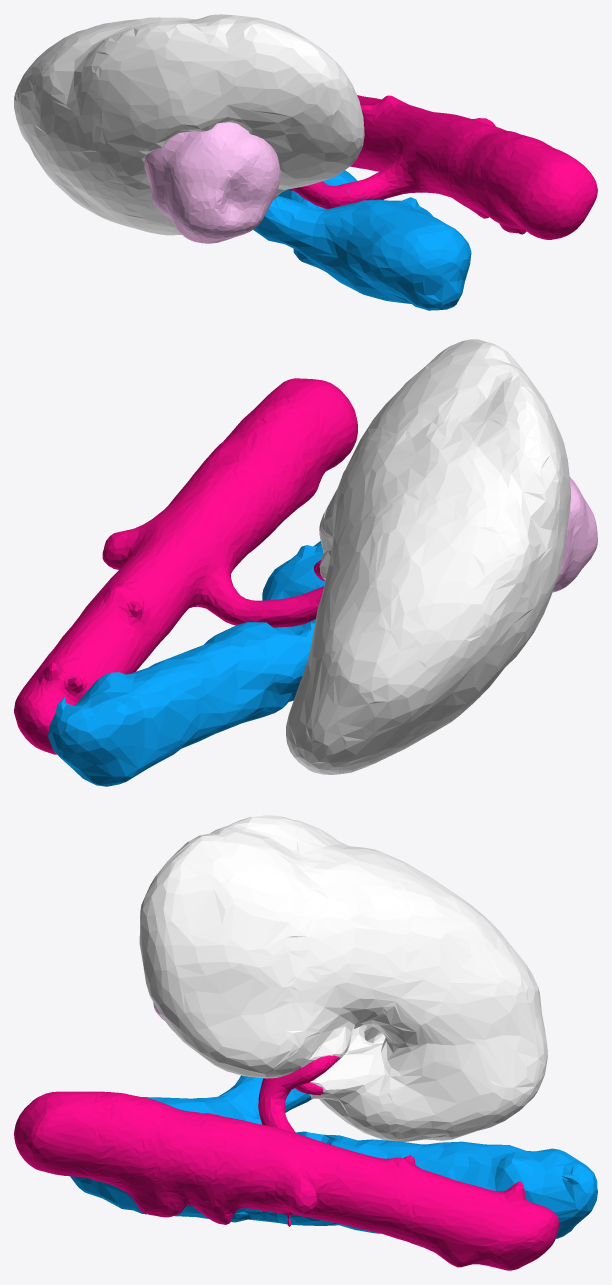
The model's file is Kind.gltf.
3 views of the same model, one above another, from view 1: azimuth 30°, elevation 25°; view 2: azimuth 150°, elevation 25°; view 3: azimuth 270°, elevation 25° (orthographic). The views are drawn at different scales.
Visible parts, largest first — view 1: surface_kidney_low, surface_artery_low, surface_vein_low, surface_neoplasm_low; view 2: surface_kidney_low, surface_artery_low, surface_vein_low, surface_neoplasm_low; view 3: surface_kidney_low, surface_artery_low, surface_vein_low.
Boxes of the visible parts, <box> form: surface_kidney_low: <box>14,14,364,235</box>; surface_artery_low: <box>287,95,597,239</box>; surface_vein_low: <box>253,170,471,310</box>; surface_neoplasm_low: <box>144,122,280,243</box>; surface_kidney_low: <box>286,339,570,774</box>; surface_artery_low: <box>14,378,357,754</box>; surface_vein_low: <box>48,541,324,786</box>; surface_neoplasm_low: <box>553,477,597,592</box>; surface_kidney_low: <box>139,815,547,1141</box>; surface_artery_low: <box>14,1055,559,1270</box>; surface_vein_low: <box>70,1075,597,1238</box>.
Size of the model in its own units: 0.1272 by 0.0899 by 0.1506.
